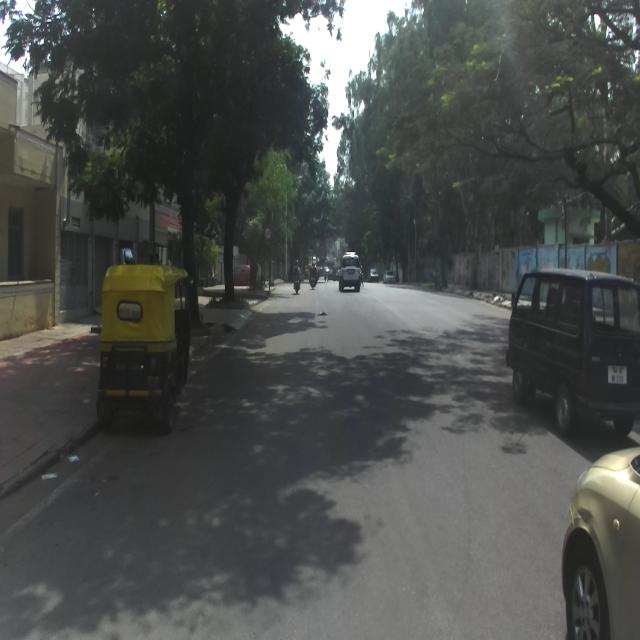auto ahead at: (99, 261, 193, 444)
car ahead at: (508, 258, 639, 424)
